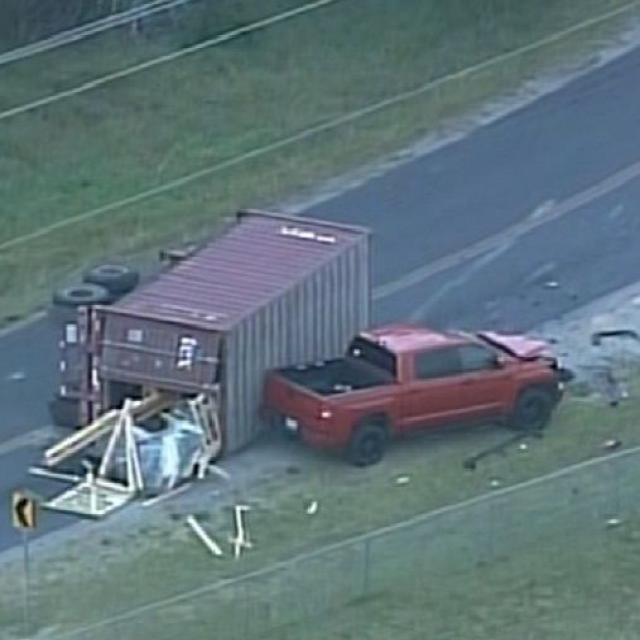traffic_incident: (51, 209, 366, 502), (266, 309, 564, 475)
